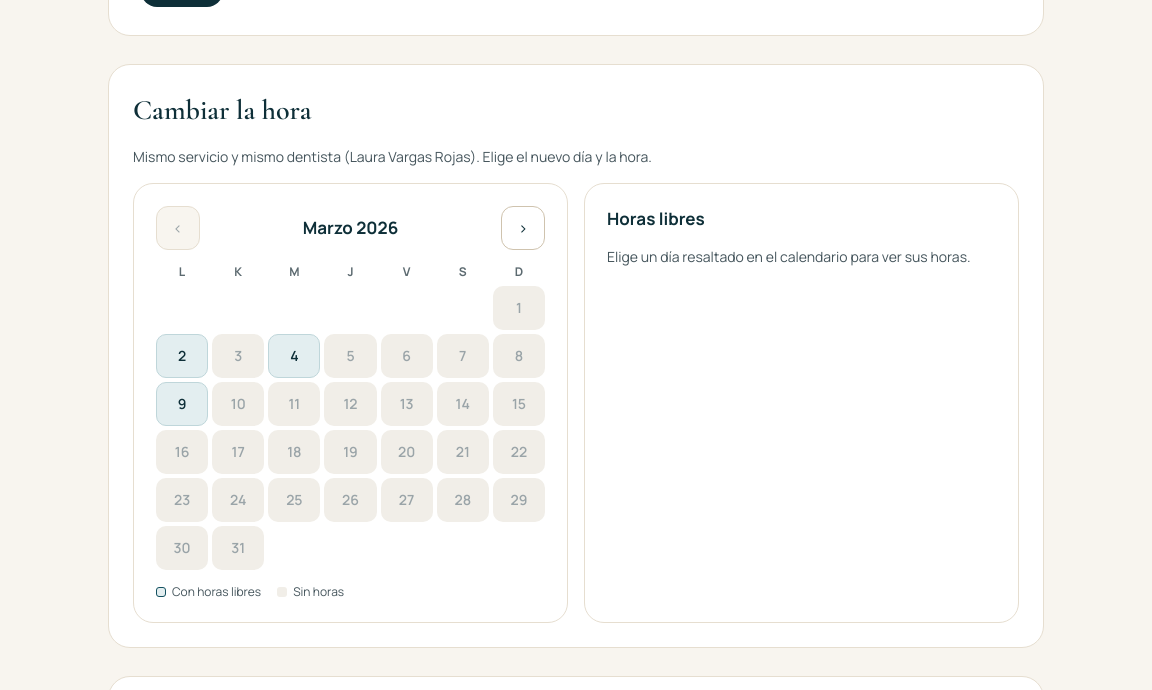
it: Gestión de la cita por enlace › reprogramar a otra hora actualiza la tarjeta
The width and height of the screenshot is (1152, 690).
(page scrolled)
Click the button named "lunes 2 de marzo" at (182, 356), box [156,334,208,378]
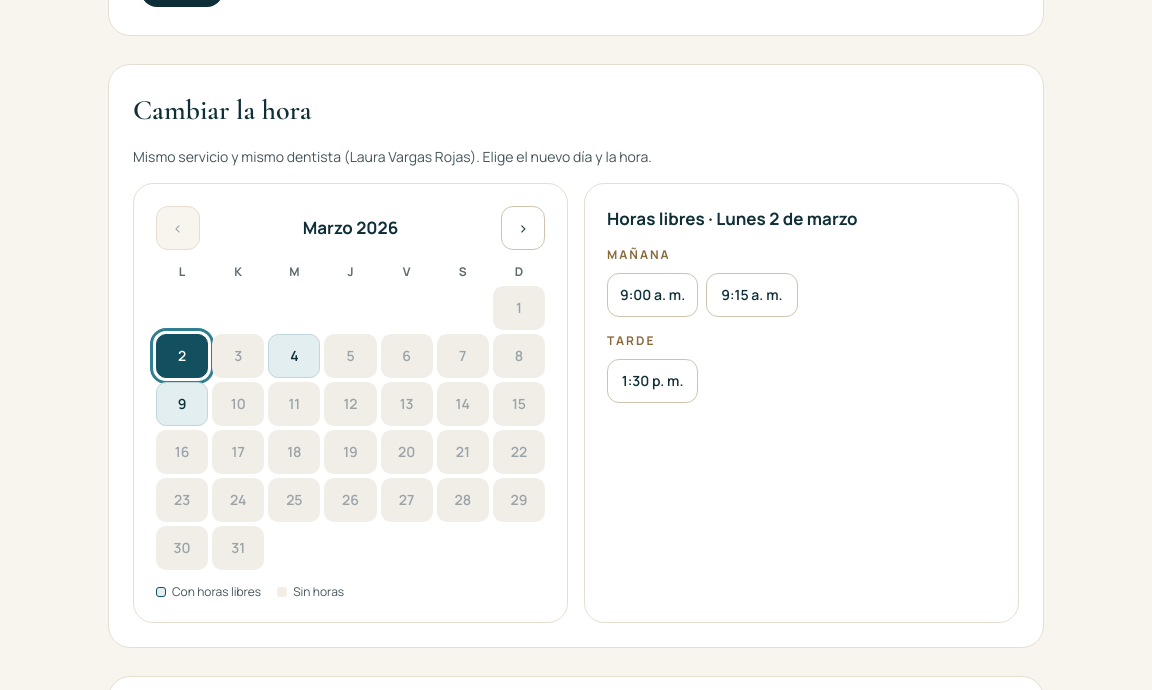
Click the button "1:30 p. m." at (653, 381), box [607,359,698,403]
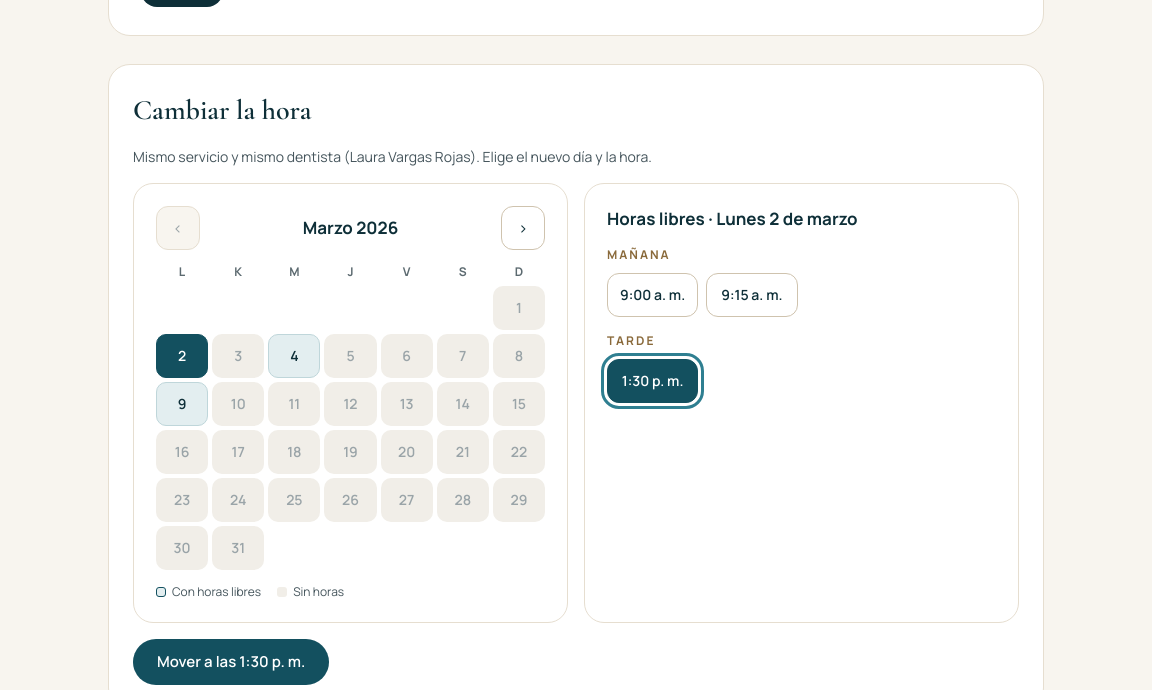
Click the button "Mover a las 1:30 p. m." at (231, 662), box [133,639,329,685]
(page scrolled)
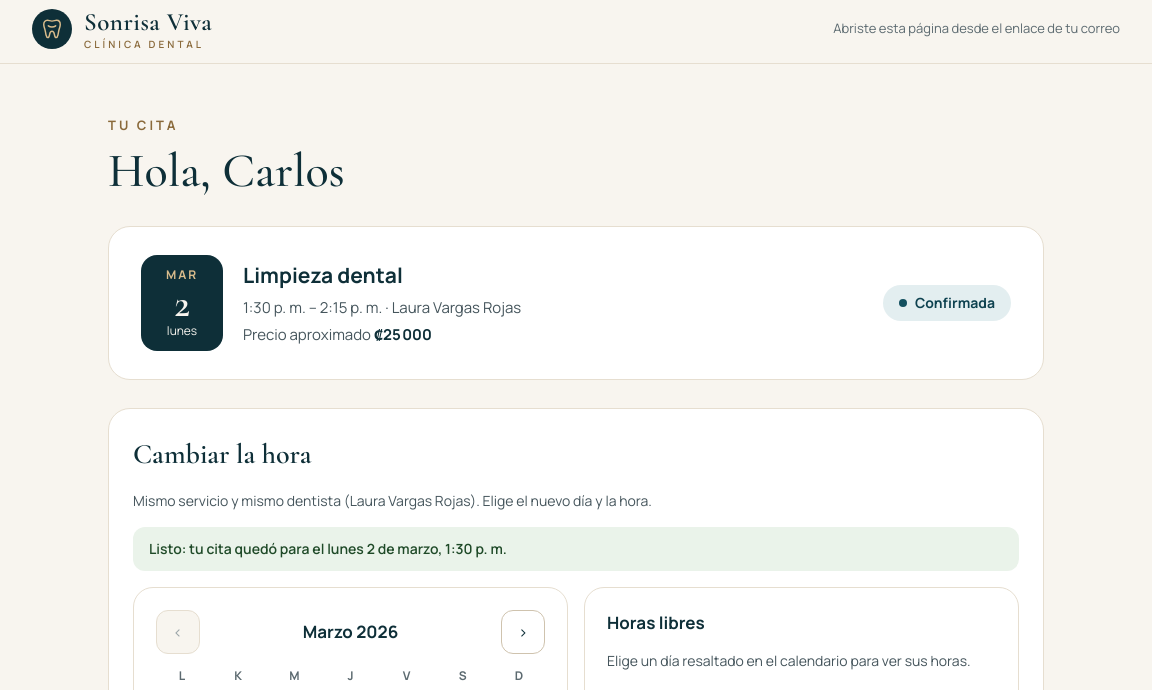
Expected: the message reads "Listo: tu cita quedó para el lunes 2 de marzo, 1:30 p. m.", [149,539,507,558]
Expected: the element named "Tu cita" shows "1:30 p. m. – 2:15 p. m.", [108,226,1044,380]
